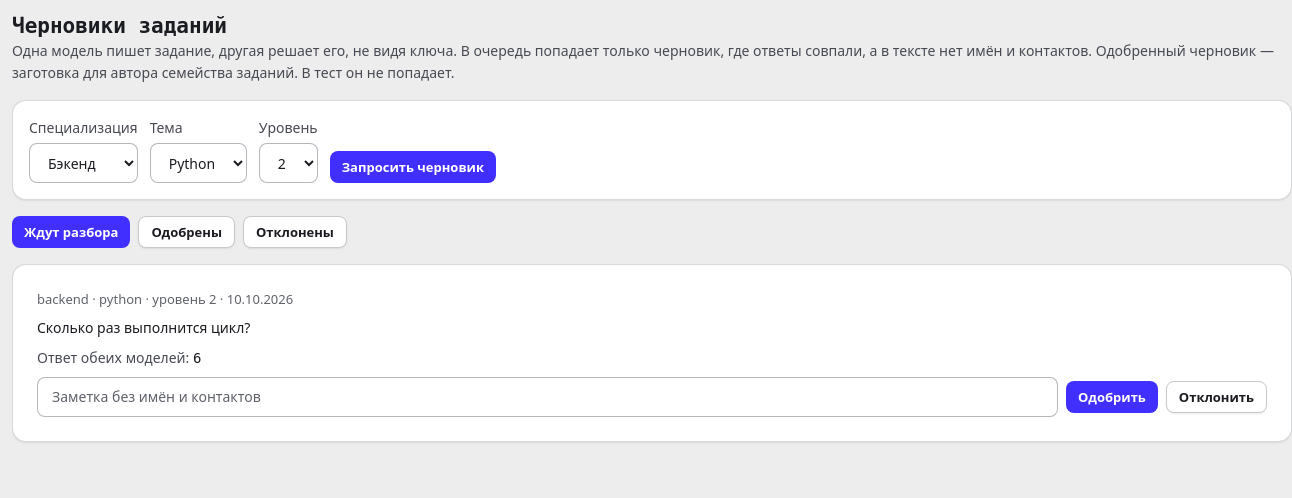
Scenario: черновики заданий › одобряет черновик с заметкой и запрашивает новый
Check: the text "Сколько раз выполнится цикл?" is shown, box [37, 318, 250, 337]
Type "в семейство циклов" into the field named "Заметка к черновику" at (548,397), box [37, 377, 1058, 417]
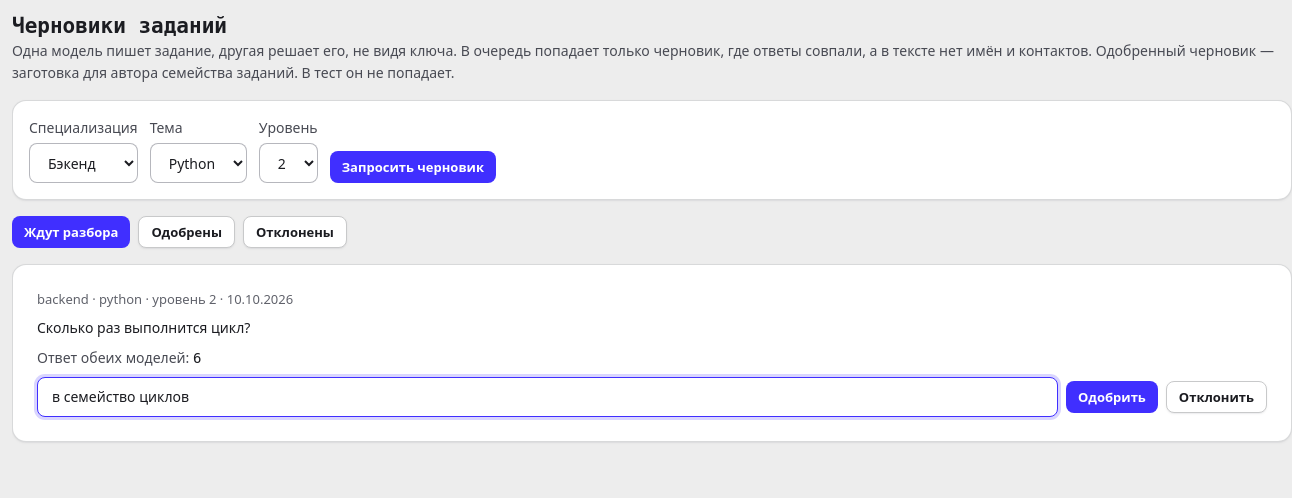
Click the button "Одобрить" at (1112,397), box [1066, 381, 1158, 413]
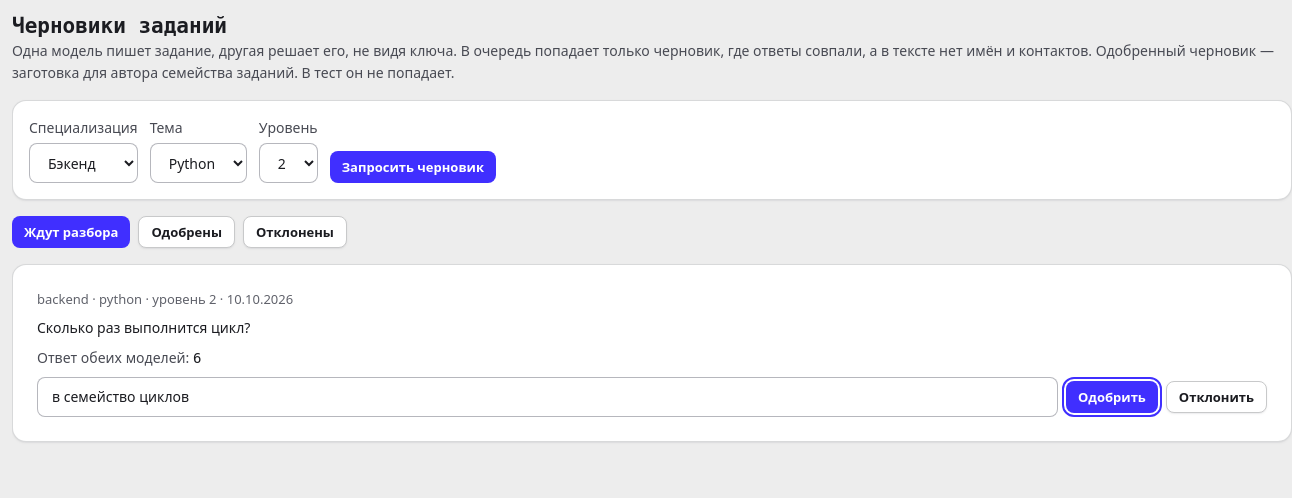
Click the button "Запросить черновик" at (413,167), box [330, 151, 496, 183]
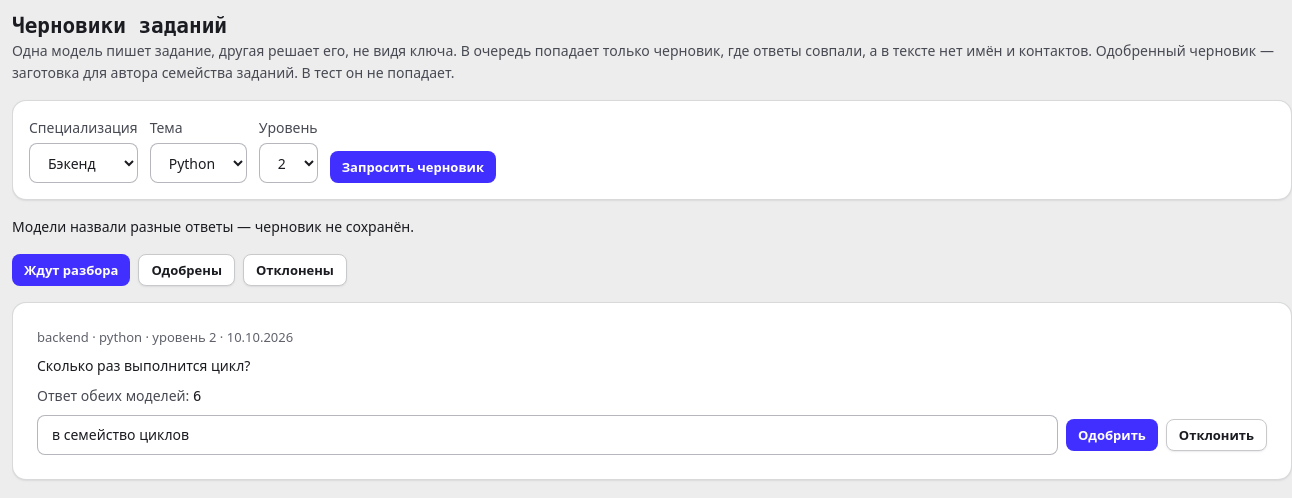
Check: the message shows "Модели назвали разные ответы", box [12, 217, 414, 236]
